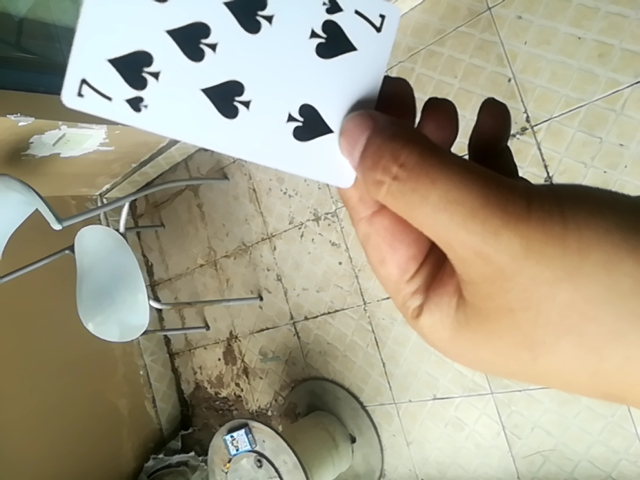ht 7: (54, 0, 409, 195)
